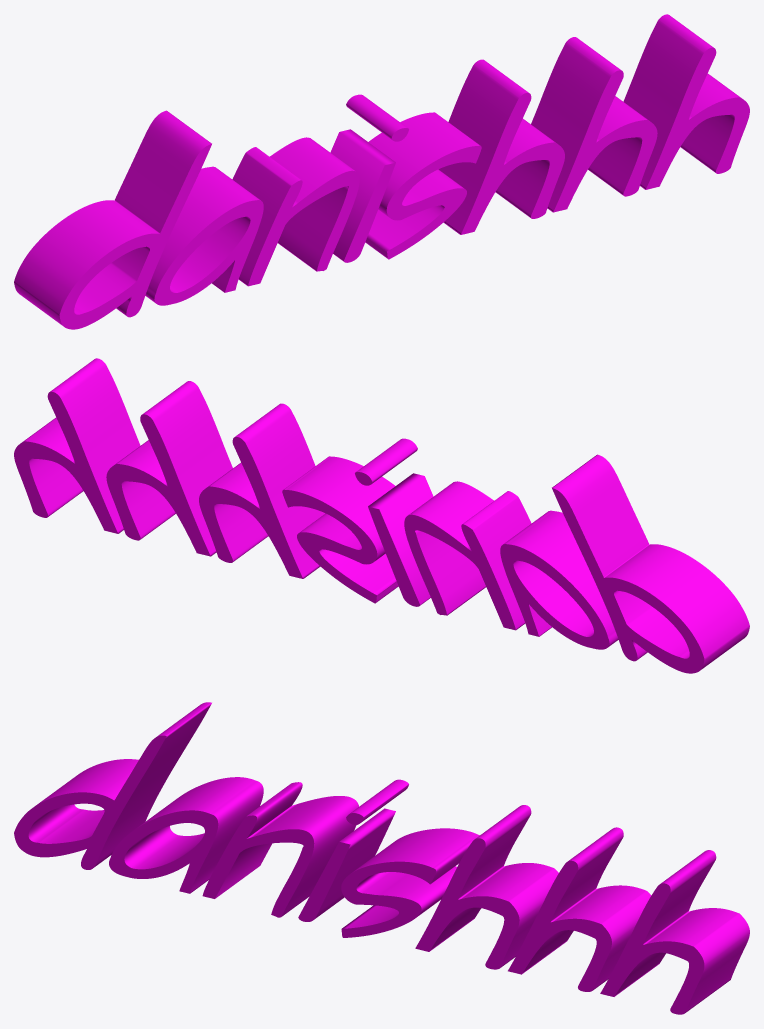
The picture shows the model from 3 angles, top to bottom: view 1: azimuth 30°, elevation 25°; view 2: azimuth 150°, elevation 25°; view 3: azimuth 330°, elevation 25°; orthographic projection.
Parts seen in each view (by area): view 1: danishhh; view 2: danishhh; view 3: danishhh.
Part boxes in pixels (x1=…): danishhh: x1=14, y1=14, x2=749, y2=329; danishhh: x1=14, y1=358, x2=749, y2=673; danishhh: x1=14, y1=702, x2=749, y2=1014.
Size of the model in its own units: 3.94 by 0.8661 by 0.45.
